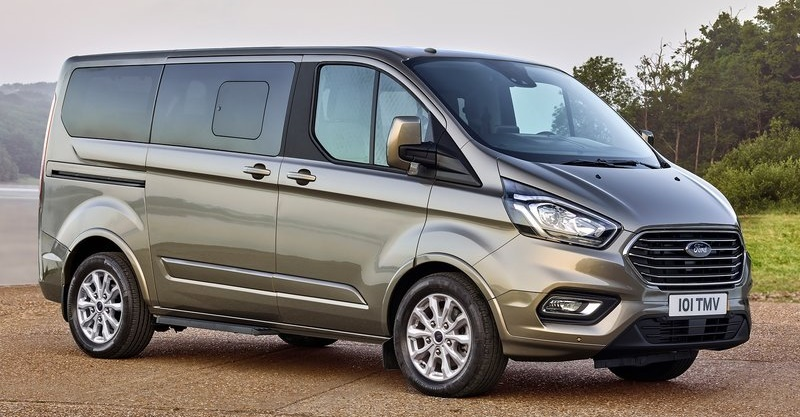van: (35, 42, 757, 399)
